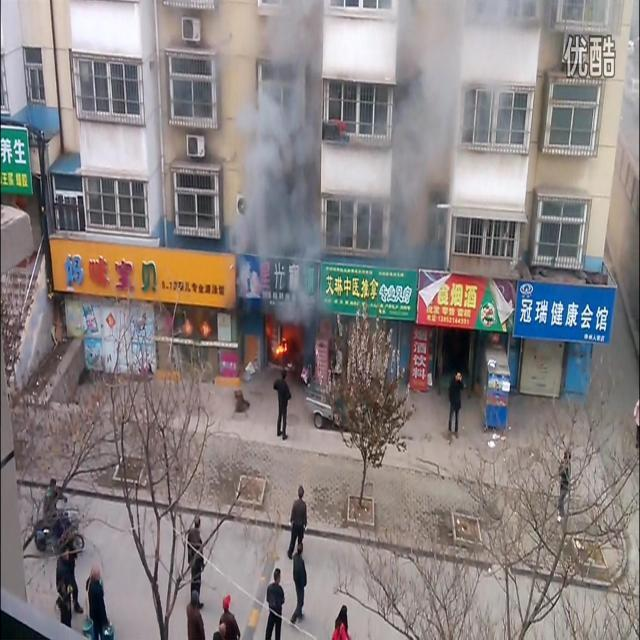Fire: (274, 336, 288, 356)
Smoke: (225, 1, 324, 325), (389, 1, 466, 262)
